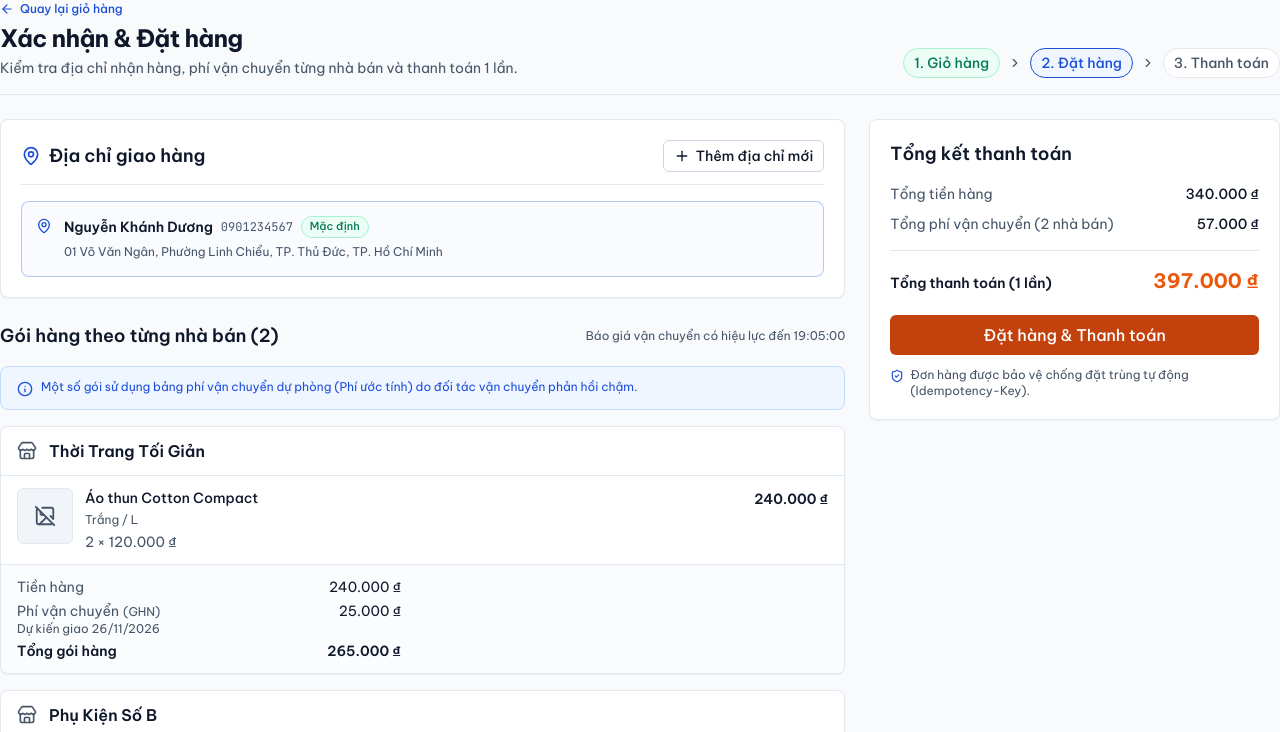
Test: T4-06: Checkout (/checkout) & <= 3 Screens Flow › opens InsufficientStockDialog on 409 INSUFFICIENT_STOCK and navigates back to /cart
This screenshot has width=1280, height=732.
Expected: the element "Thời Trang Tối Giản" is shown, [0,426,845,674]
What coordinates should you click on to do the following:
click the button "Đặt hàng & Thanh toán"
I would click on:
 (1075, 335)
Its box is [890,315,1259,355].
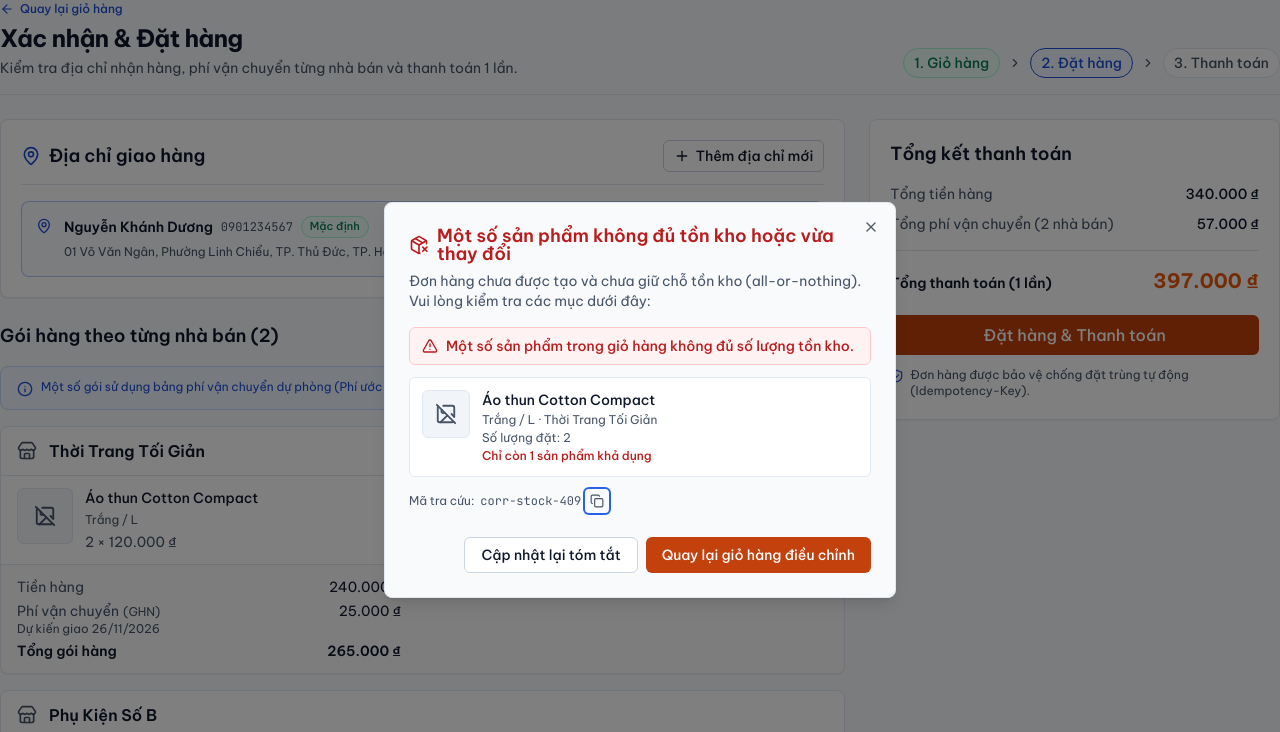
Result: the text "Áo thun Cotton Compact" is shown at [482,391,655,409]
Result: the text "Chỉ còn 1 sản phẩm khả dụng" is shown at [482,448,652,463]
Result: the text "corr-stock-409" is shown at [480,493,581,509]
What coordinates should you click on to do the following:
click the button "Quay lại giỏ hàng điều chỉnh"
I would click on:
 (758, 555)
Its box is [646,537,871,573].
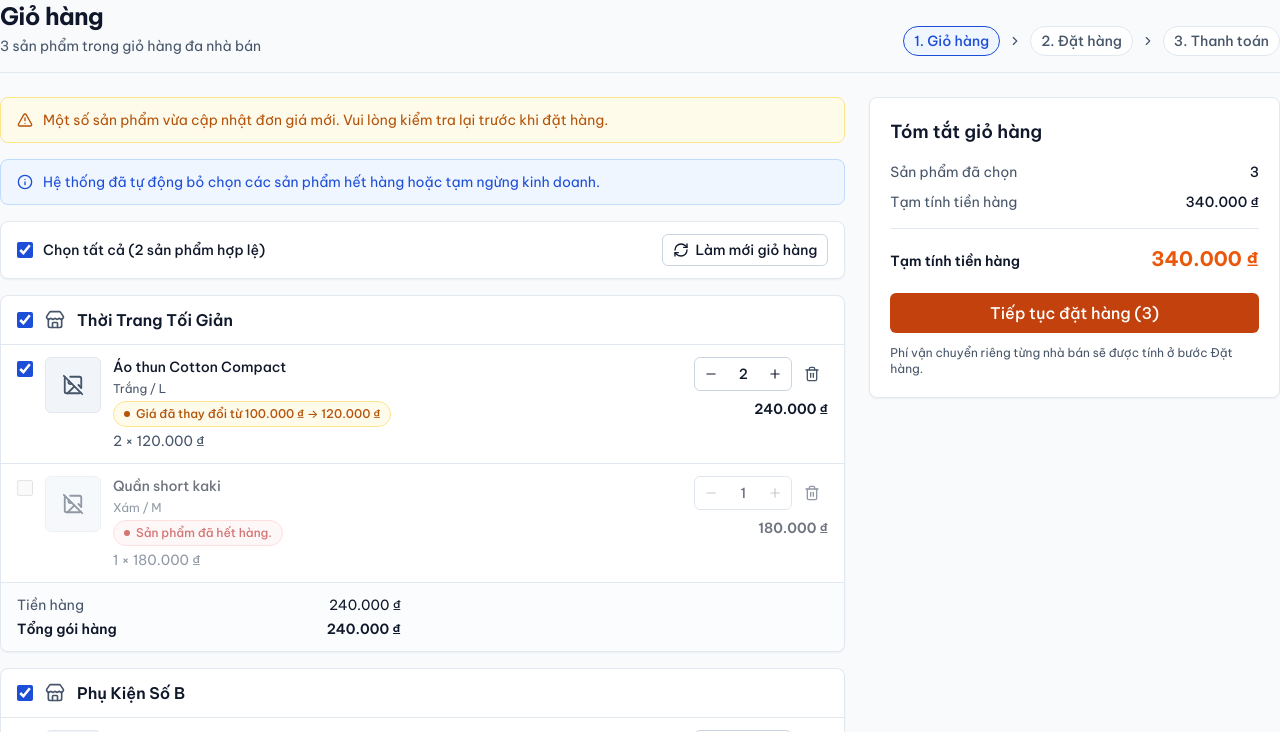
Result: the heading "Giỏ hàng" is shown at [0,1,103,31]
